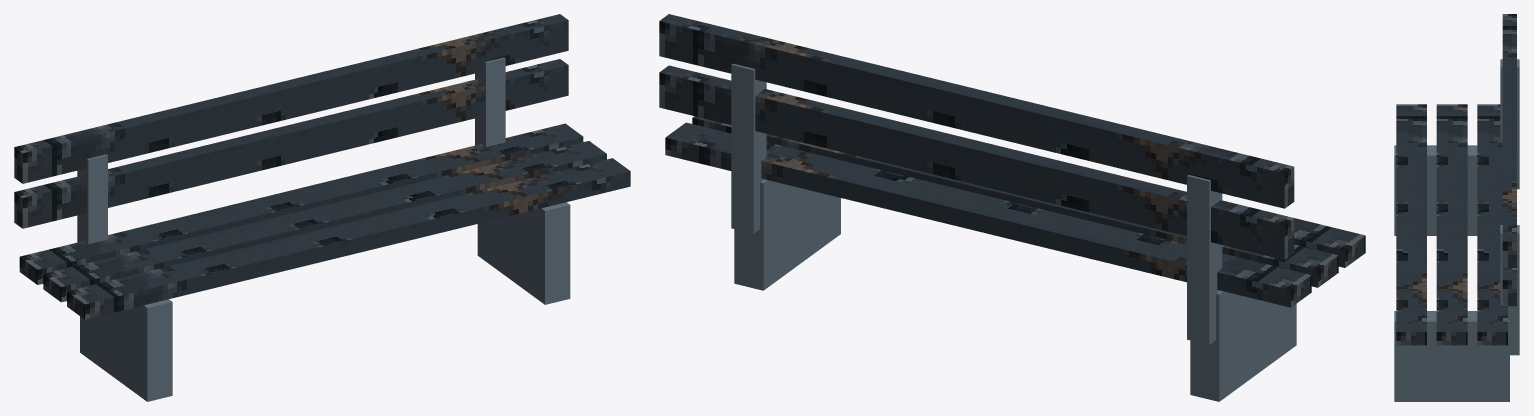
File: bench_metal.glb
The picture shows the model from 3 angles, left to right: view 1: azimuth 30°, elevation 25°; view 2: azimuth 150°, elevation 25°; view 3: azimuth 270°, elevation 25°; orthographic projection. The views are drawn at different scales.
Visible parts, largest first — view 1: bench_metal; view 2: bench_metal; view 3: bench_metal.
Part boxes in pixels (left/top/right/bottom): bench_metal: left=14, top=14, right=630, bottom=401; bench_metal: left=659, top=14, right=1365, bottom=401; bench_metal: left=1394, top=14, right=1519, bottom=401.
Size of the model in its own units: 2.8 by 1.07 by 0.65.
2 materials, 1 textured.
